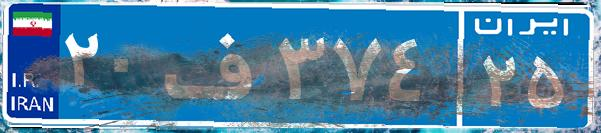0: (110, 28, 158, 105)
2: (57, 26, 110, 107), (475, 38, 525, 113)
3: (273, 28, 330, 110)
4: (385, 28, 445, 110)
5: (525, 38, 570, 115)
7: (330, 28, 385, 110)
ف: (158, 15, 273, 115)
